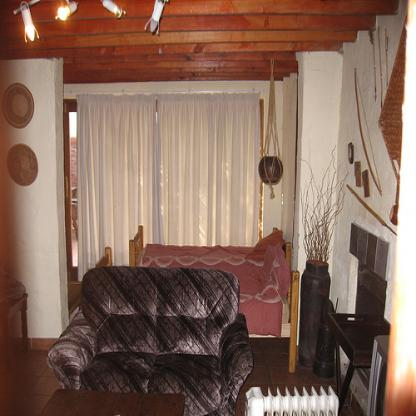sofa: (44, 263, 254, 415)
